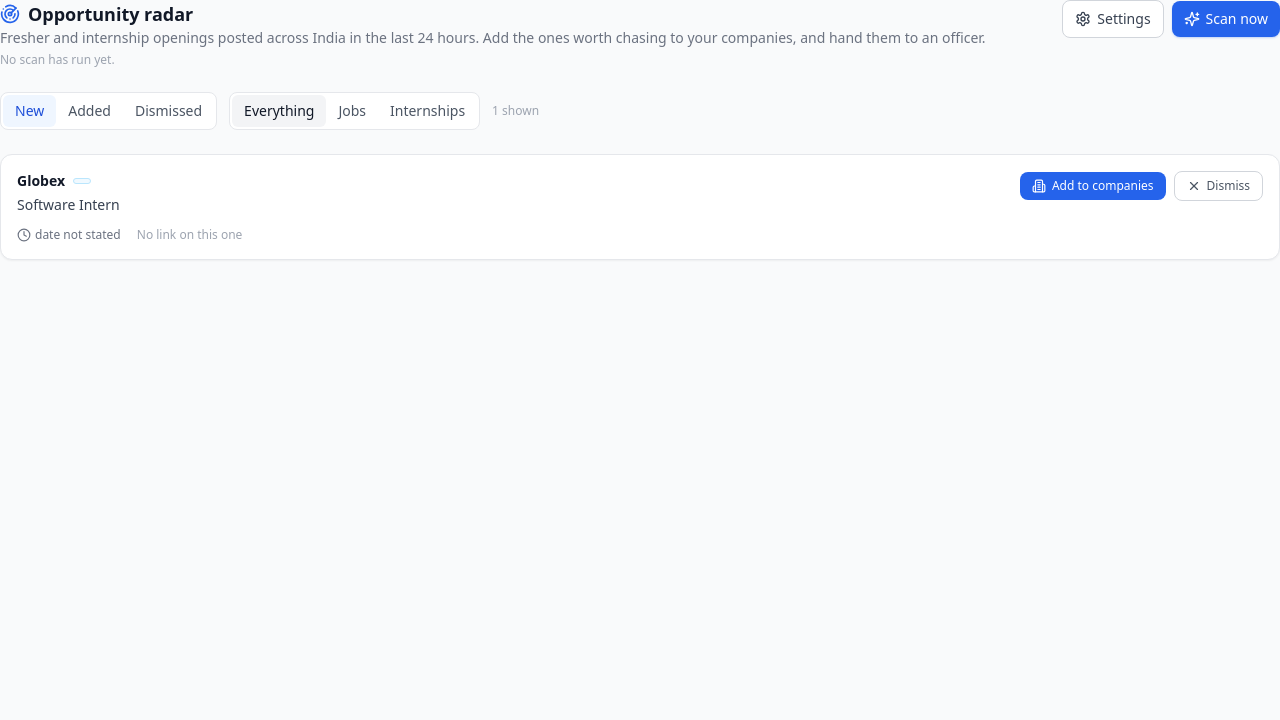
dismissing an opening › does nothing when the confirmation is declined
Expected: the heading "Globex" is shown, [17,171,65,191]
Click the button "Dismiss" at (1218, 186), box [1174,171,1263,201]
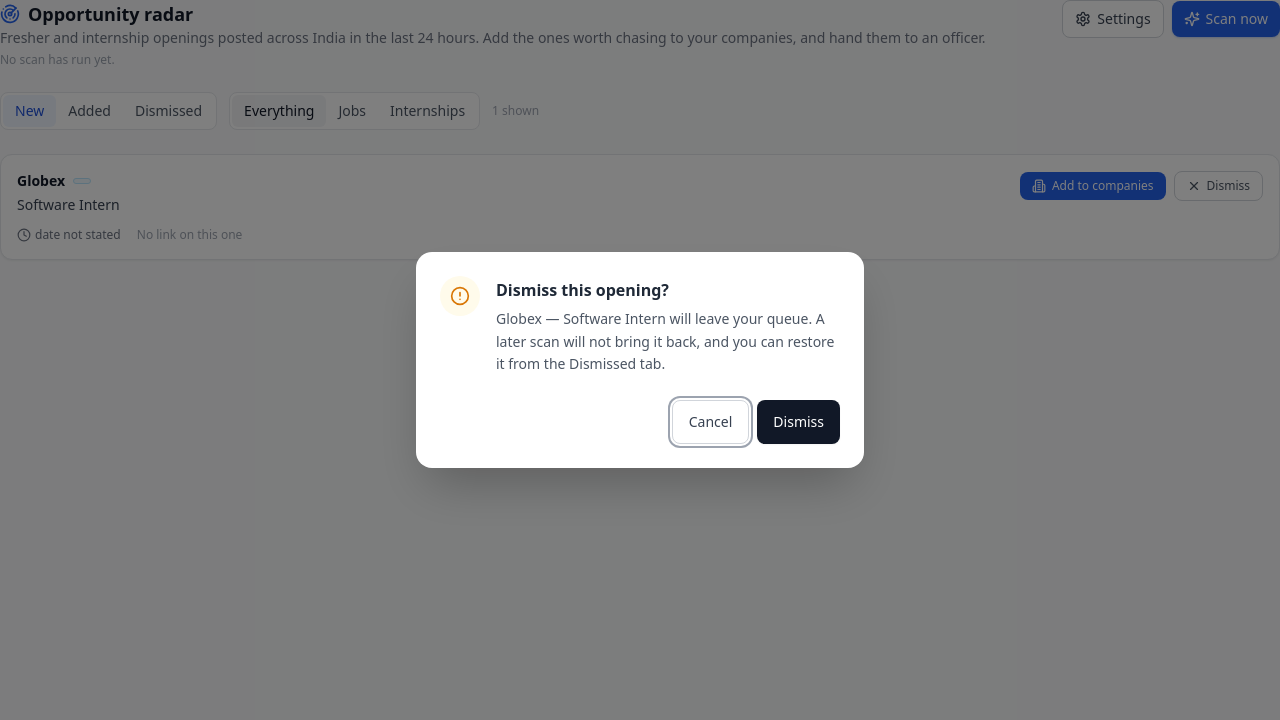
Expected: the heading "Dismiss this opening?" is shown, [496,279,669,301]
Click the button "Cancel" at (711, 422), box [672,400,749,444]
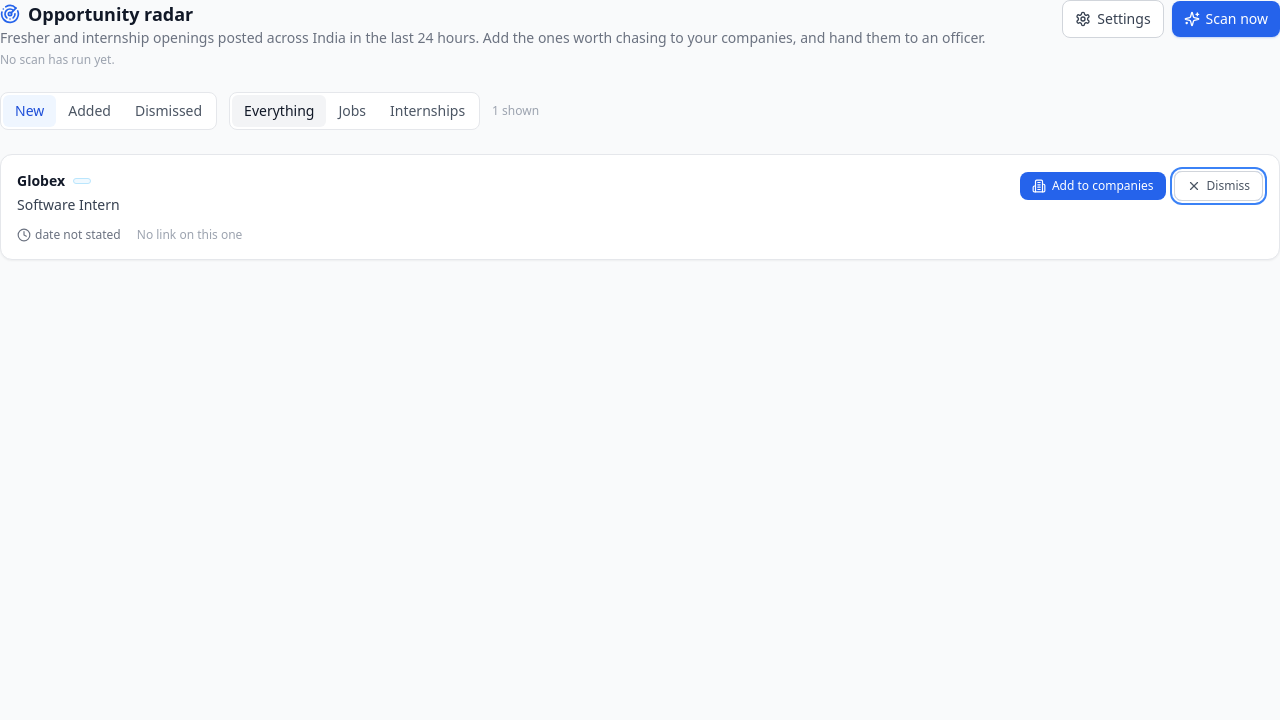
Expected: the heading "Dismiss this opening?" is gone
